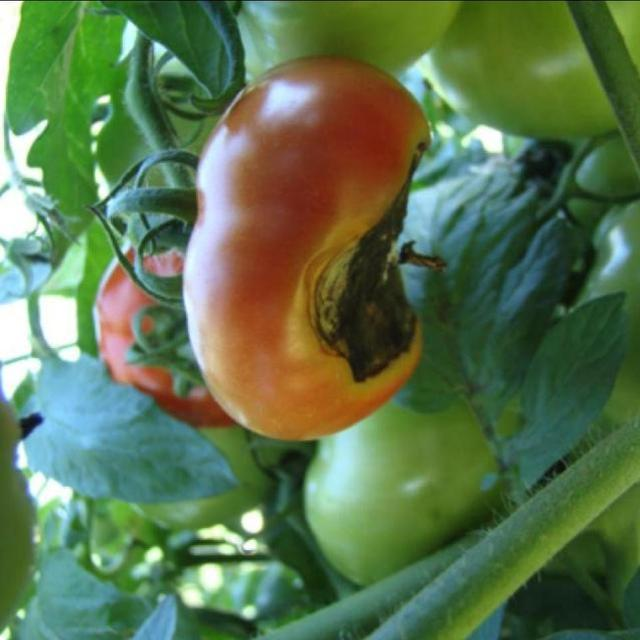Blossom End Rot Fruit: (205, 76, 290, 261)
